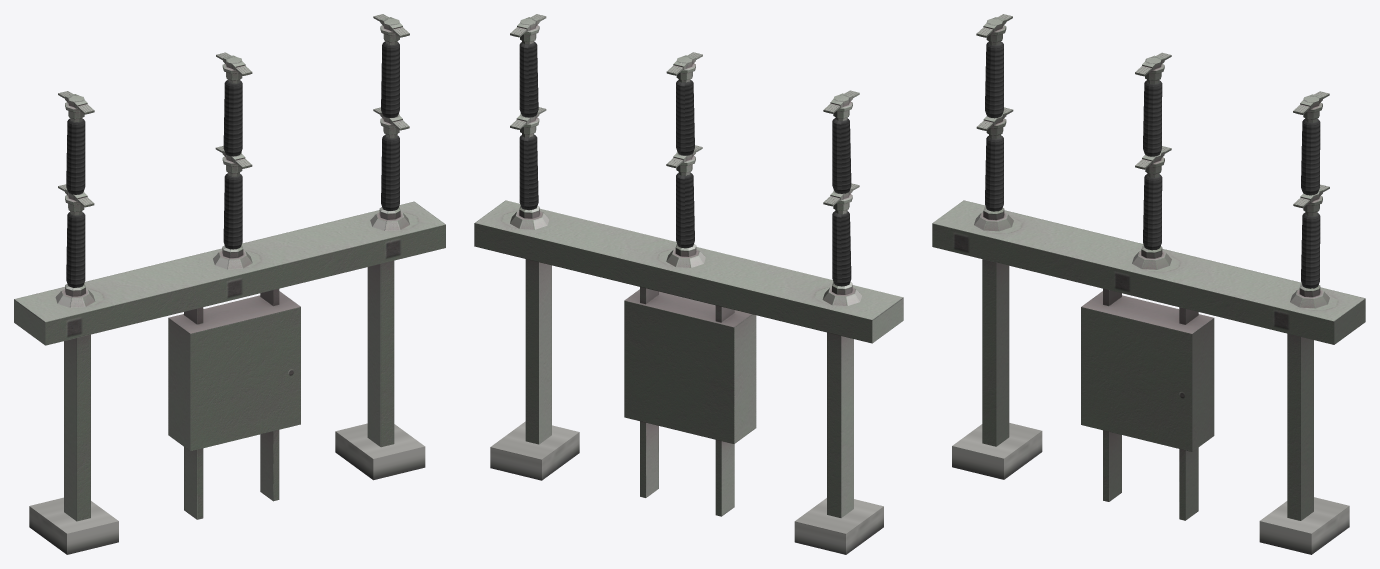
Rendered from substation_ht_1005_09.obj.
The picture shows the model from 3 angles, left to right: view 1: azimuth 30°, elevation 25°; view 2: azimuth 150°, elevation 25°; view 3: azimuth 330°, elevation 25°; orthographic projection.
Size of the model in its own units: 31.2 by 33.09 by 5.12.
3 materials, 3 textured.
